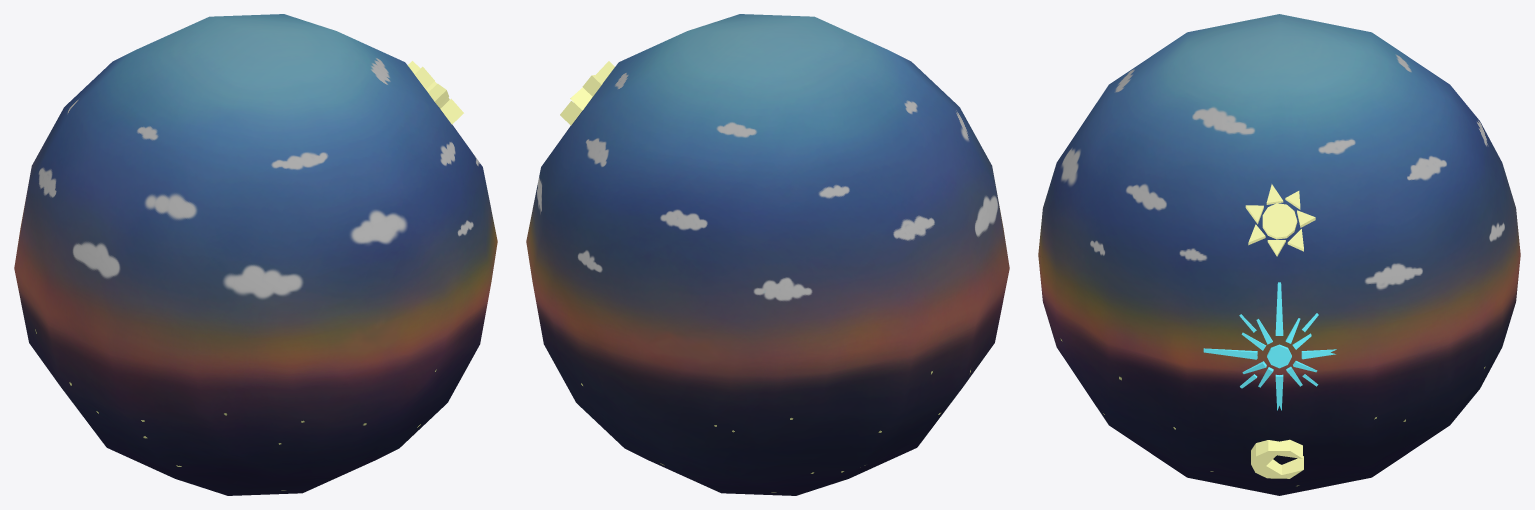
File: SkyBall.glb
3 views of the same model, side by side, from view 1: azimuth 30°, elevation 25°; view 2: azimuth 150°, elevation 25°; view 3: azimuth 270°, elevation 25° (orthographic).
Visible parts, largest first — view 1: Sphere.001; view 2: Sphere.001; view 3: Sphere.001.
Part boxes in pixels (x1,y1,x2,y2): Sphere.001: [14, 14, 497, 495]; Sphere.001: [526, 14, 1009, 495]; Sphere.001: [1038, 14, 1520, 495].
Bounding box in the file's own units: 2 × 2 × 2.
1 material, 1 textured.
